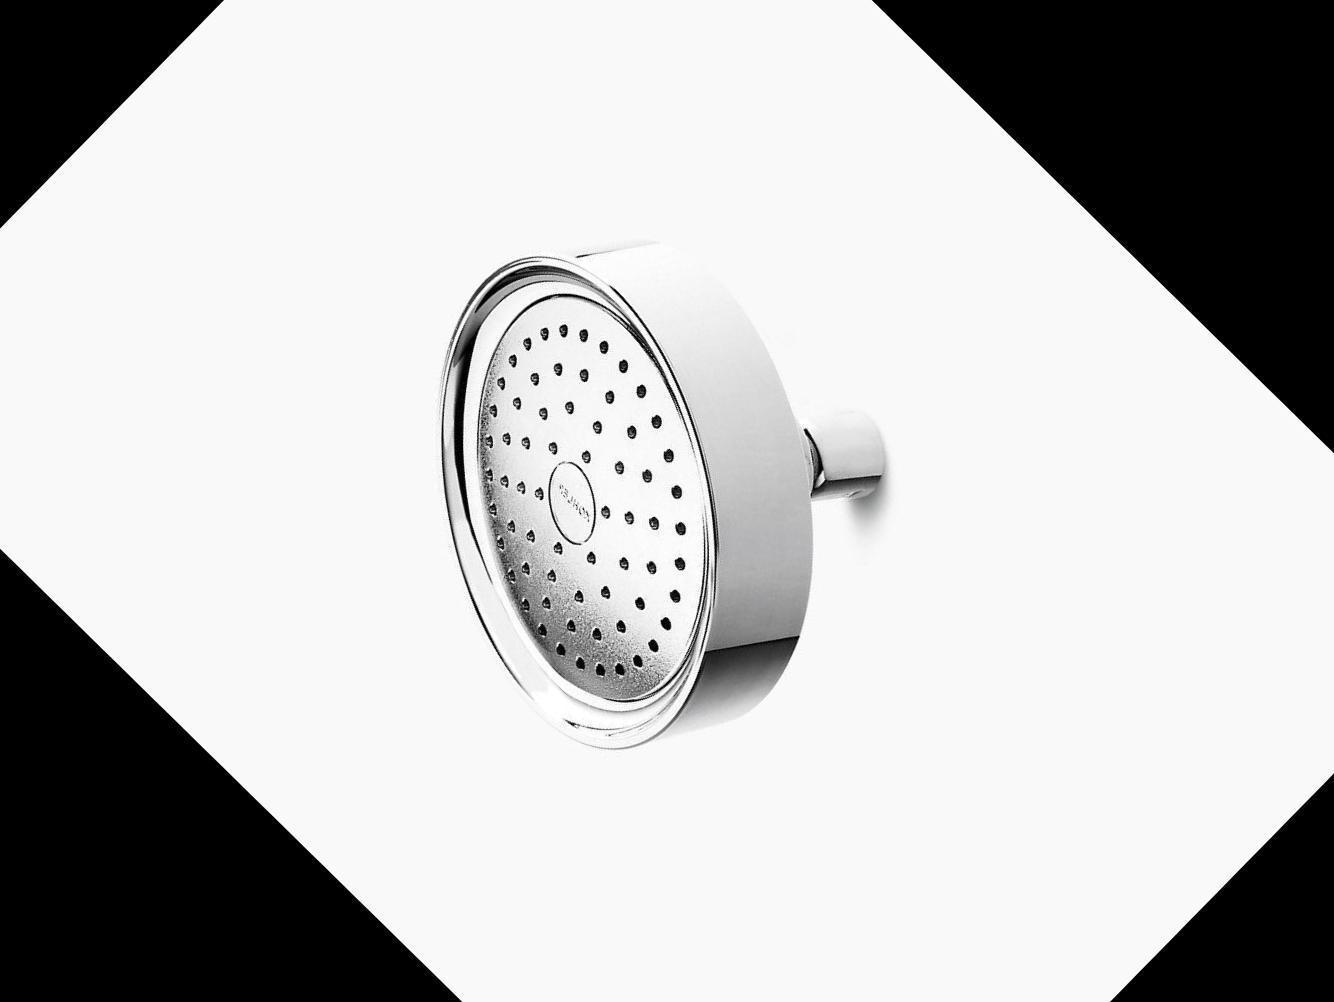Ducha: (260, 113, 1000, 855)
